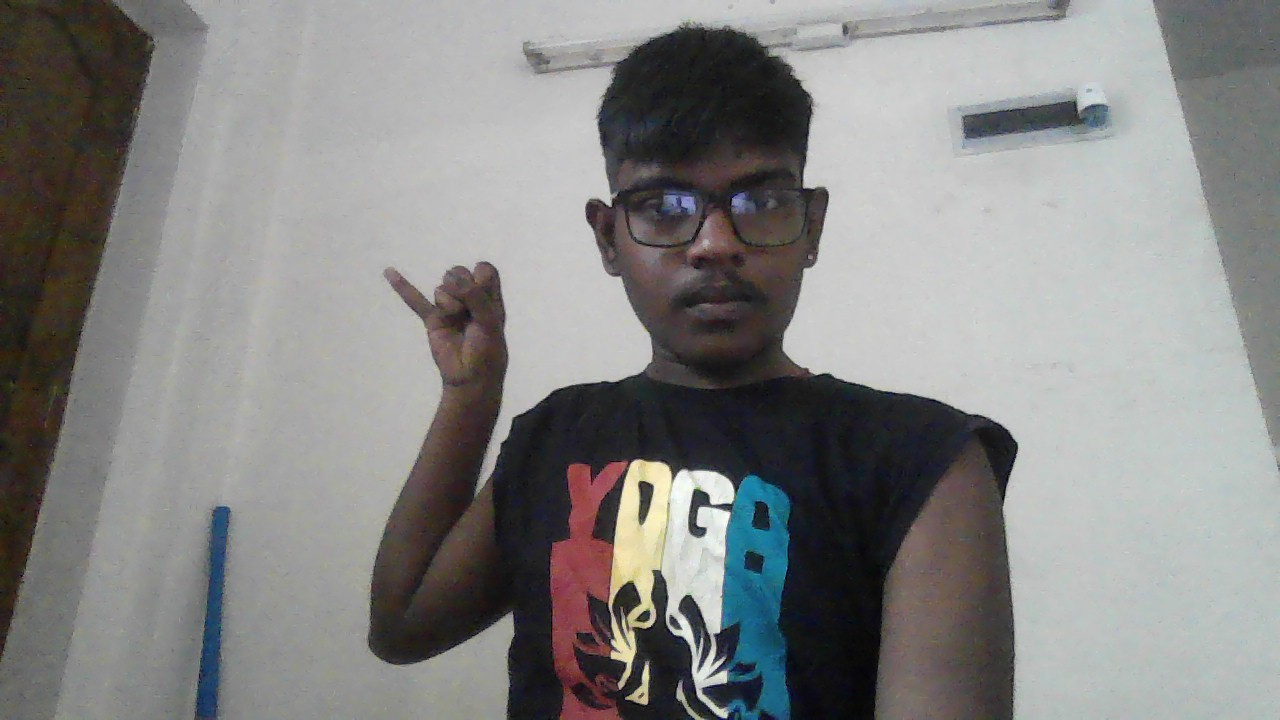J: (383, 259, 508, 389)
